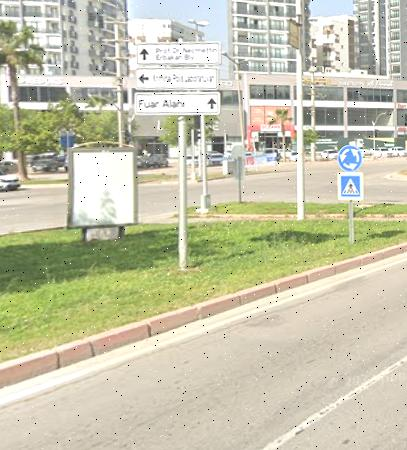crossroads: (337, 145, 363, 171)
